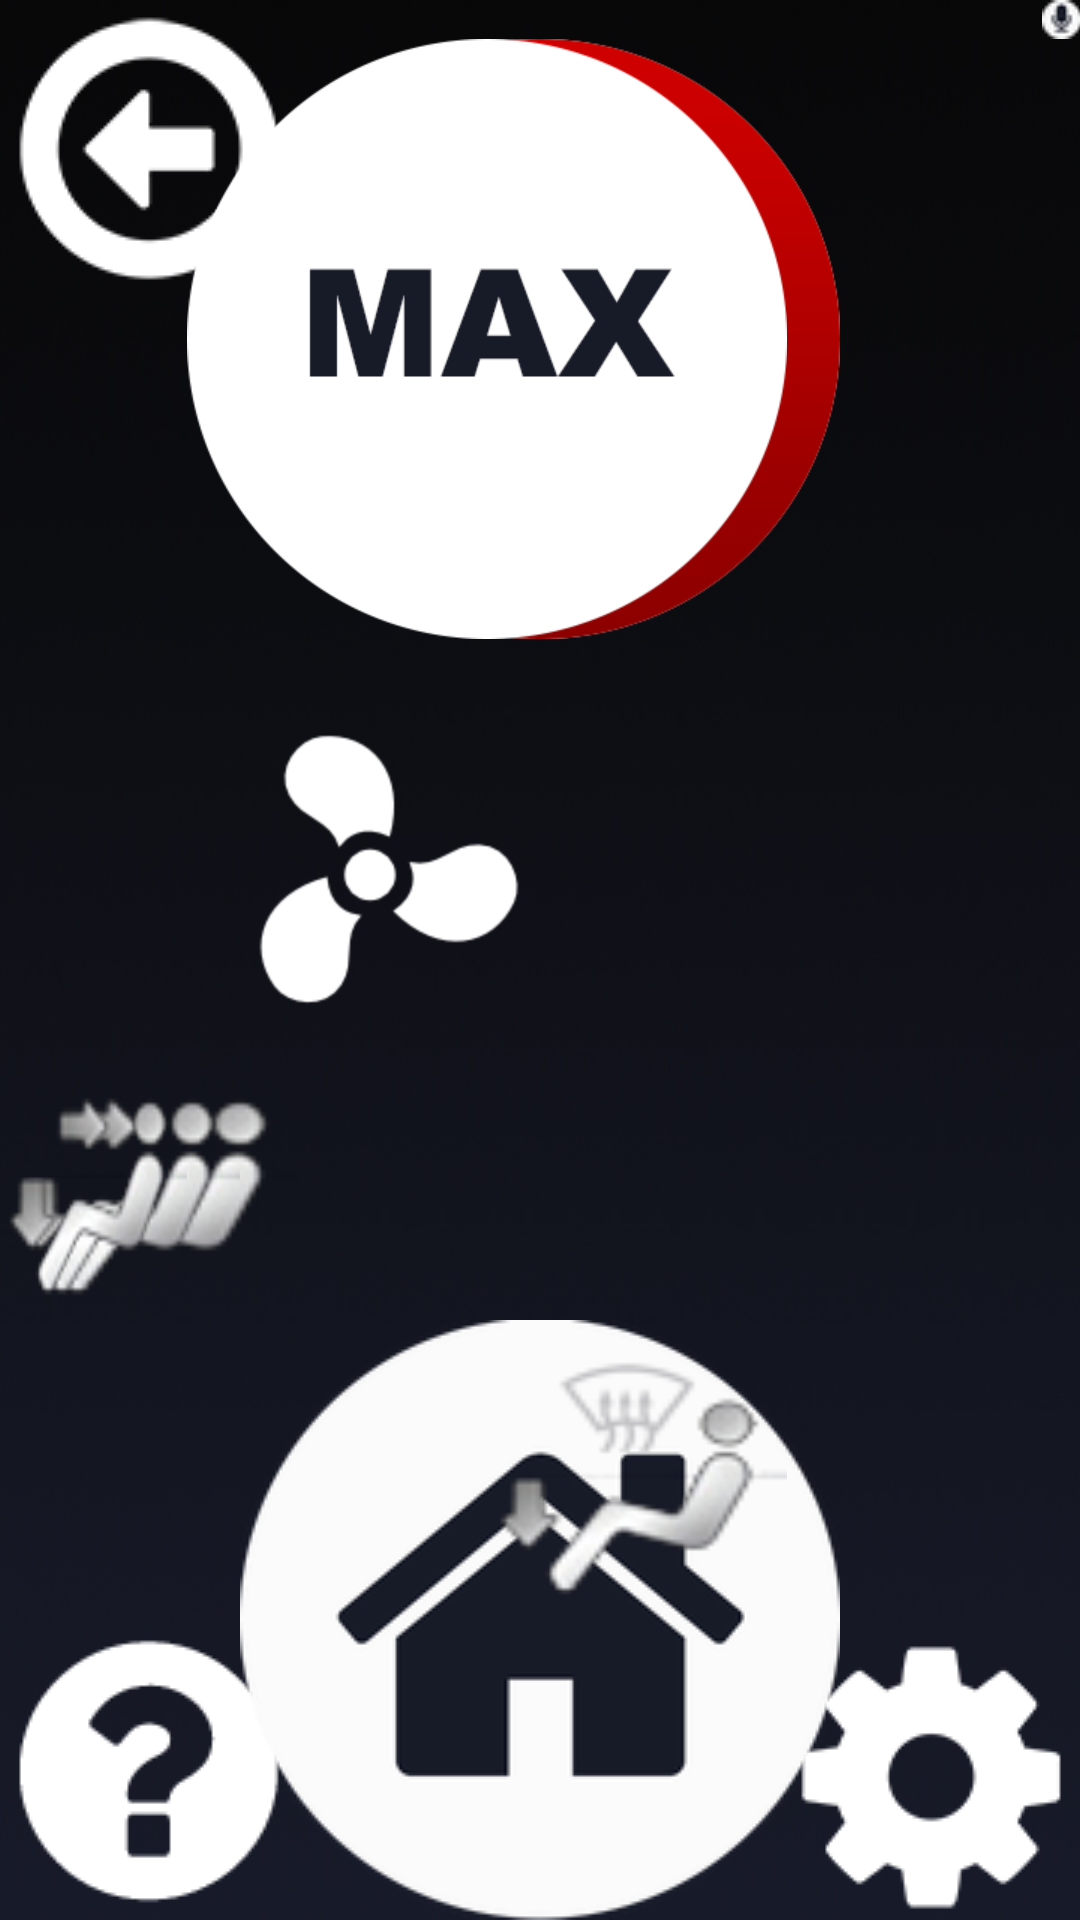

Named icons in this screenshot (1080*1920) and their centers, point (x, y):
back: point (149, 150)
fan: point (389, 869)
help: point (149, 1770)
mic: point (1061, 19)
settings: point (930, 1770)
